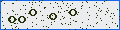o: (69, 9, 77, 16), (49, 13, 57, 20), (29, 9, 37, 16), (18, 16, 26, 23), (8, 16, 16, 23)
